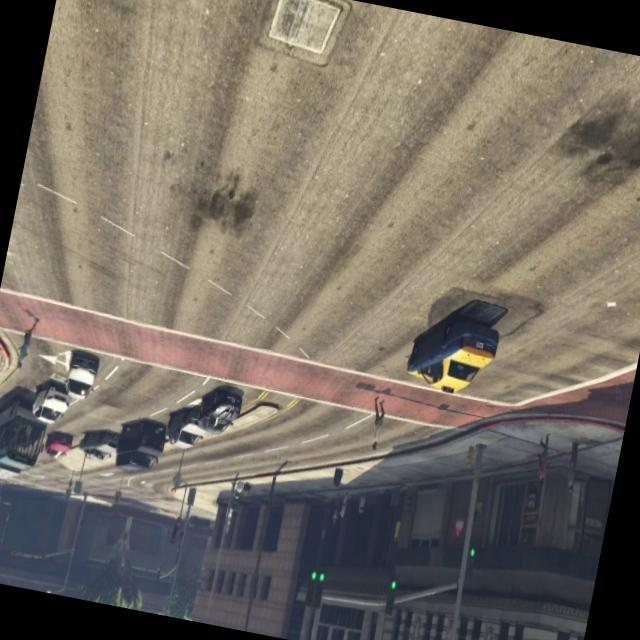Green-Signal: (300, 553, 334, 617), (378, 566, 406, 627), (458, 536, 484, 592)
